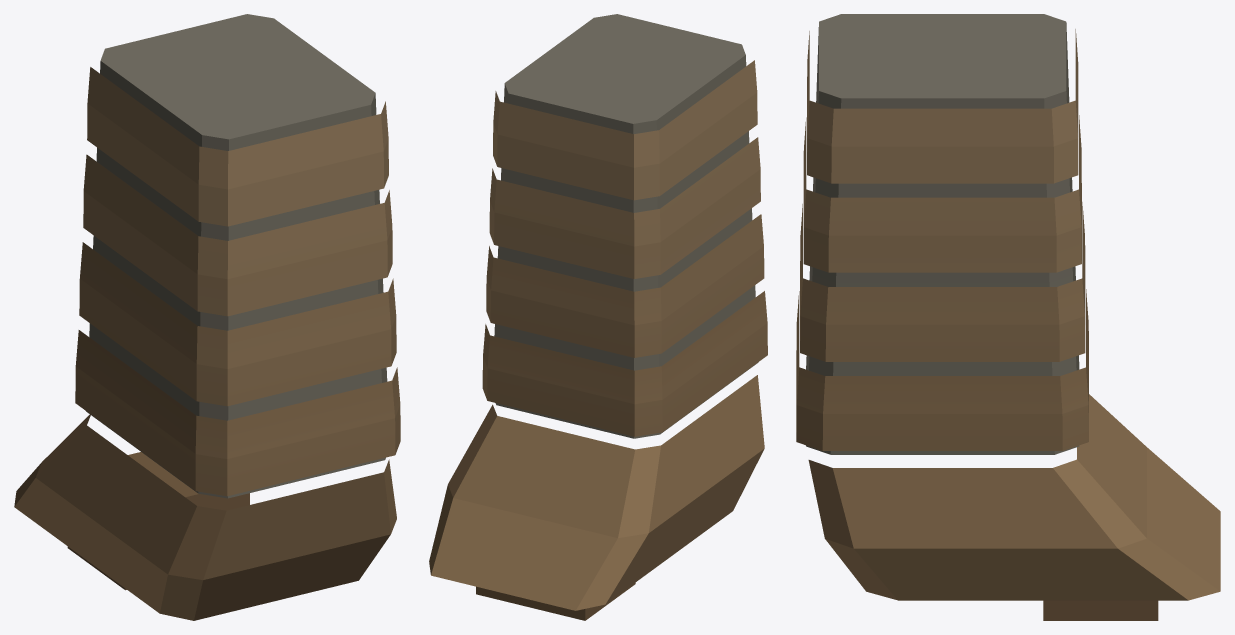
The picture shows the model from 3 angles, left to right: view 1: azimuth 30°, elevation 25°; view 2: azimuth 150°, elevation 25°; view 3: azimuth 270°, elevation 25°; orthographic projection. The views are drawn at different scales.
Visible parts, largest first — view 1: lamellar_boots; view 2: lamellar_boots; view 3: lamellar_boots.
Boxes of the visible parts, left/top/right/bottom form: lamellar_boots: left=14, top=14, right=400, bottom=620; lamellar_boots: left=429, top=14, right=767, bottom=620; lamellar_boots: left=796, top=14, right=1220, bottom=620.
Size of the model in its own units: 0.1837 by 0.41 by 0.2949.
